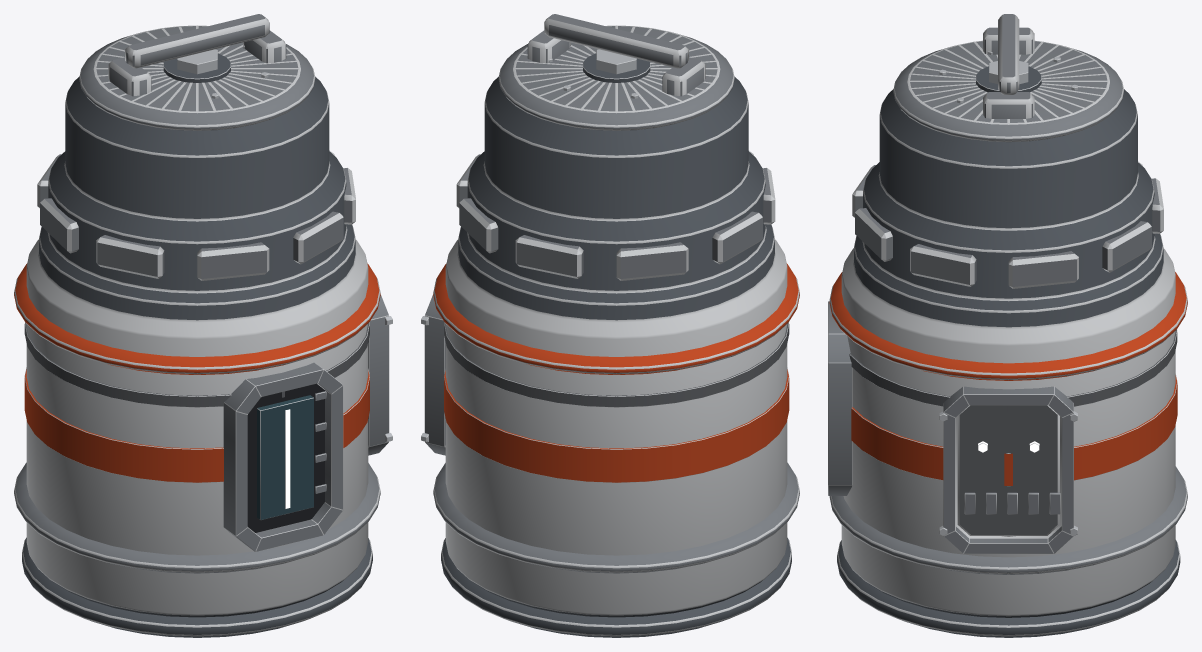
Rendered from SM_Prop_Canister.fbx.
3 renders of one model, left to right at view 1: azimuth 30°, elevation 25°; view 2: azimuth 150°, elevation 25°; view 3: azimuth 270°, elevation 25°, orthographic. The views are drawn at different scales.
Parts seen in each view (by area): view 1: GEO-PR_canister; view 2: GEO-PR_canister; view 3: GEO-PR_canister.
Boxes of the visible parts, x1,y1,x2,y2 form: GEO-PR_canister: (14, 14, 392, 637); GEO-PR_canister: (421, 14, 799, 637); GEO-PR_canister: (828, 14, 1187, 637).
Bounding box in the file's own units: 47.45 × 76.6 × 47.4.
